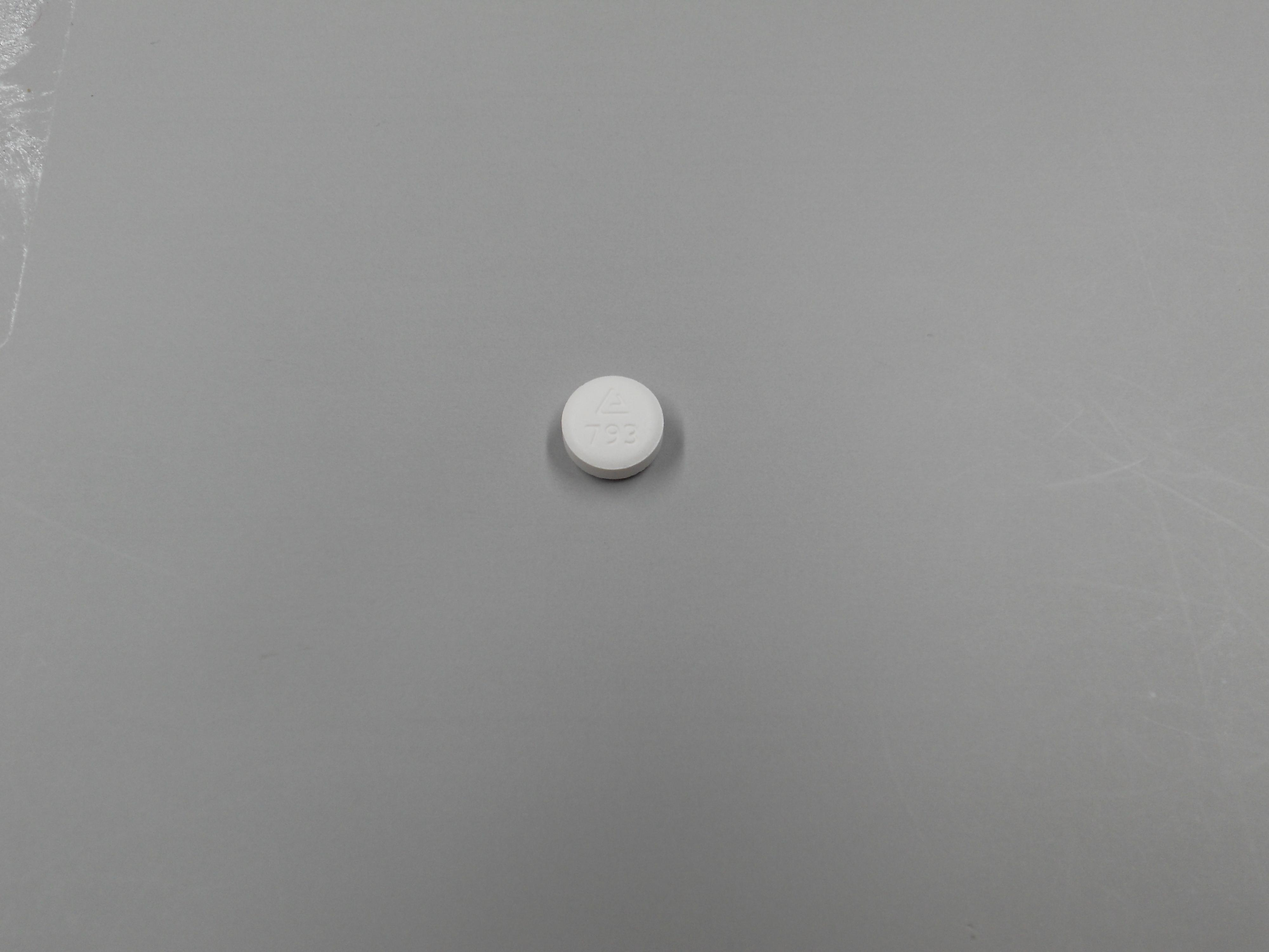Pill: (550, 370, 674, 489)
